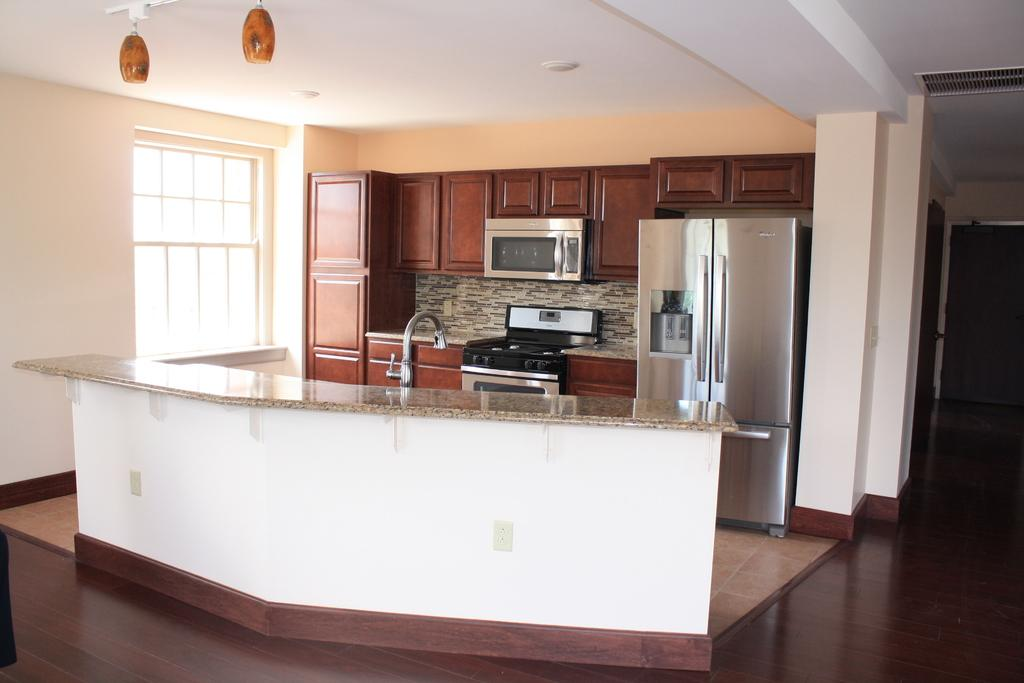cabinet_door: (305, 178, 369, 264), (594, 175, 640, 272), (440, 175, 486, 268), (392, 179, 442, 262), (311, 275, 364, 352), (654, 156, 734, 205), (731, 163, 809, 201), (540, 168, 590, 213), (493, 168, 537, 211), (307, 350, 359, 381)
handle: (712, 250, 729, 384), (694, 257, 708, 383), (723, 421, 769, 446), (551, 231, 569, 277)
